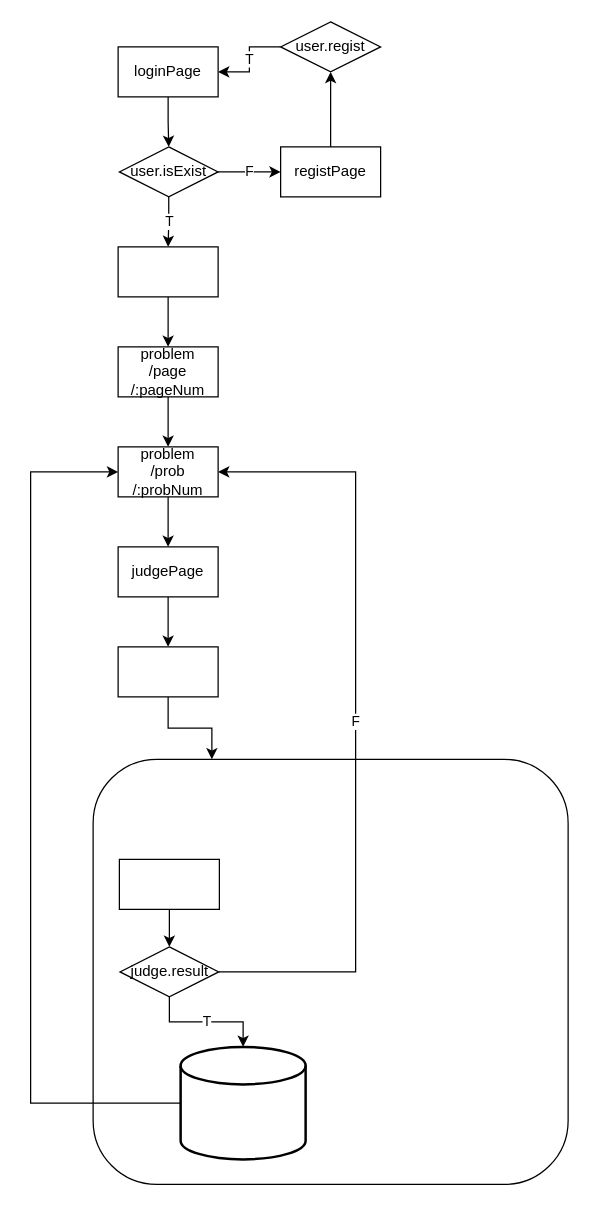
Some shapes in this 590 by 1206 pixel diagram are drawn without their labels. Each missing label, with the centre of its shape:
"DB 에 소스코드 포함 저장" goes at (242,1102).
"judge /:probNum" goes at (167,671).
"mainPage" goes at (167,271).
"채점" goes at (168,883).
